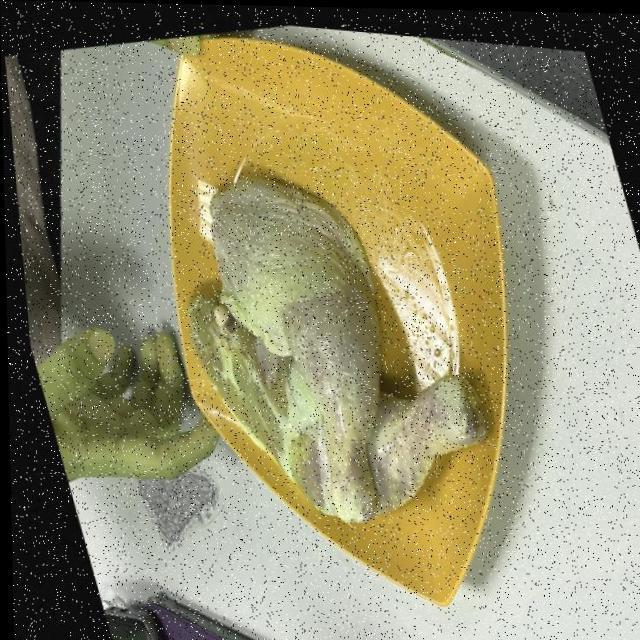quater: (167, 277, 490, 511), (202, 182, 376, 516)
